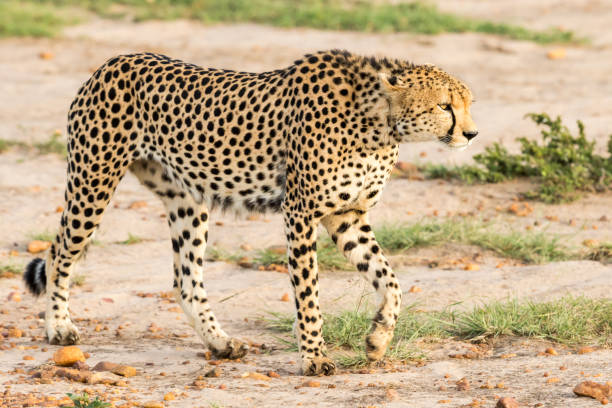cheetah: (376, 51, 480, 154)
